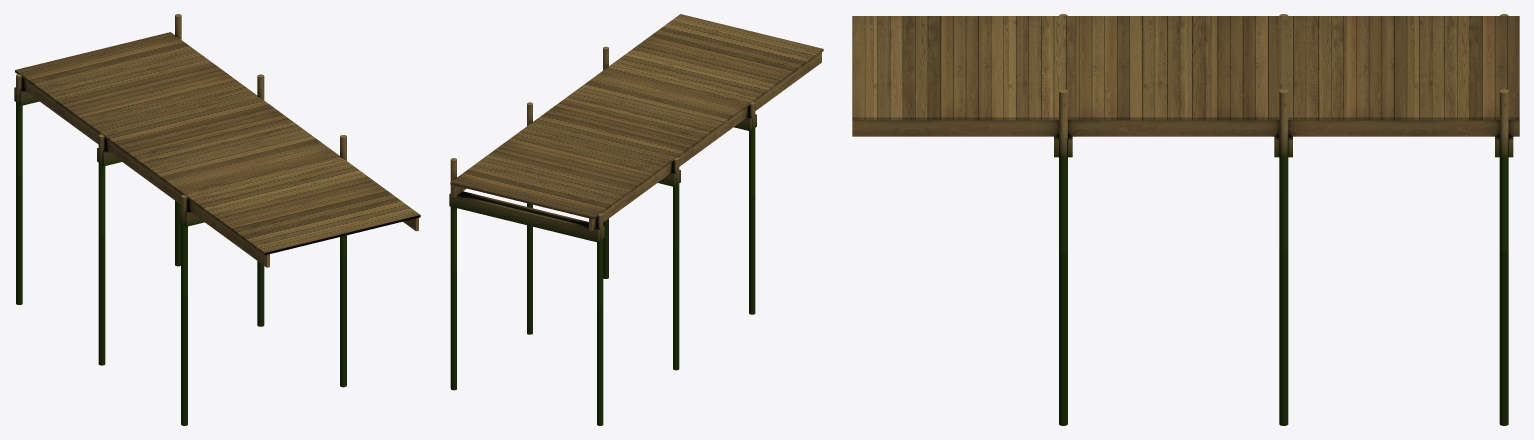
File: puerto2.fbx
3 views of the same model, side by side, from view 1: azimuth 30°, elevation 25°; view 2: azimuth 150°, elevation 25°; view 3: azimuth 270°, elevation 25° (orthographic). The views are drawn at different scales.
Parts seen in each view (by area): view 1: Puerto.003, Puerto.002; view 2: Puerto.003, Puerto.002; view 3: Puerto.003, Puerto.002.
Boxes of the visible parts, x1,y1,x2,y2 form: Puerto.003: [15, 32, 420, 267]; Puerto.002: [14, 14, 346, 425]; Puerto.003: [450, 14, 823, 230]; Puerto.002: [449, 46, 756, 425]; Puerto.003: [852, 16, 1519, 136]; Puerto.002: [1054, 14, 1513, 425].
Size of the model in its own units: 10.65 by 15.4 by 27.97.
1 material, 1 textured.
